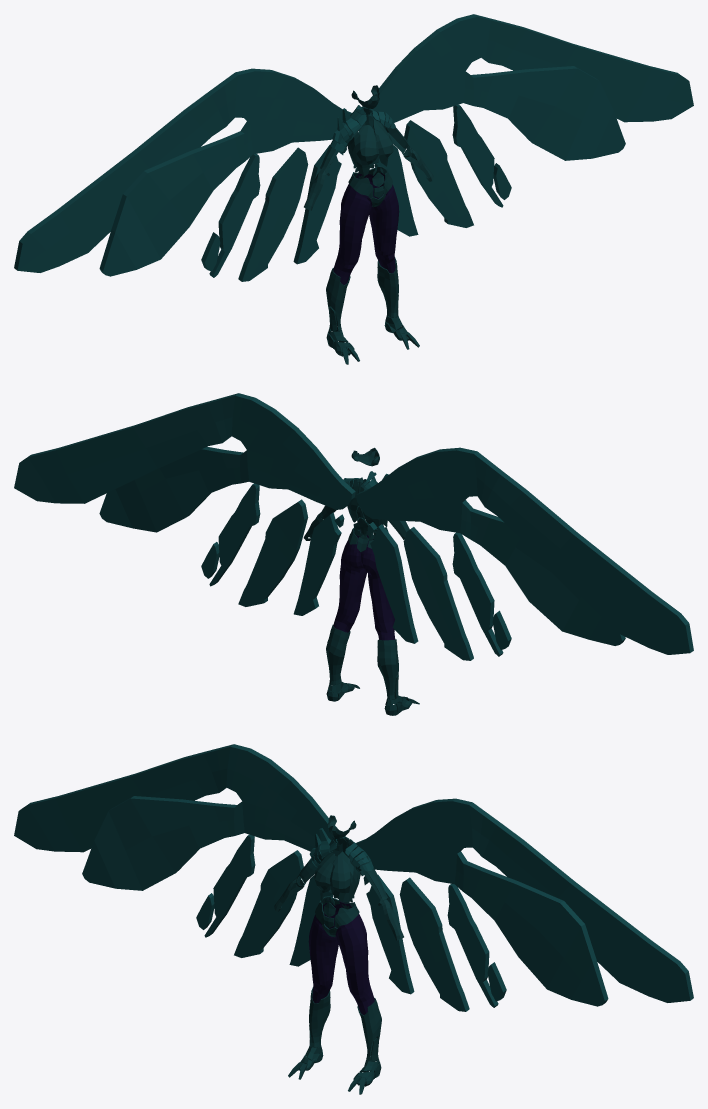
Rendered from ehecatl_readyUp_LAYOUT02-anim.fbx.
The picture shows the model from 3 angles, top to bottom: view 1: azimuth 30°, elevation 25°; view 2: azimuth 150°, elevation 25°; view 3: azimuth 330°, elevation 25°; orthographic projection.
Visible parts, largest first — view 1: Wings, Pants, Boots-Upper, Breastplate, ArmPlates, ShoulderGuards, hipGuards; view 2: Wings, Pants, Boots-Upper, BackPlate, Boots-Feet-Heels, ArmPlates; view 3: Wings, Pants, Boots-Upper, Breastplate, ArmPlates, ShoulderGuards, hipGuards.
Boxes of the visible parts, <box> form: Wings: <box>14,14,693,281</box>; Pants: <box>333,170,399,284</box>; Boots-Upper: <box>326,257,398,330</box>; Breastplate: <box>347,119,393,176</box>; ArmPlates: <box>304,116,433,210</box>; ShoulderGuards: <box>330,105,395,153</box>; hipGuards: <box>348,166,392,207</box>; Wings: <box>14,393,693,660</box>; Pants: <box>333,530,395,640</box>; Boots-Upper: <box>326,625,398,699</box>; BackPlate: <box>347,477,383,538</box>; Boots-Feet-Heels: <box>326,682,402,715</box>; ArmPlates: <box>303,505,409,542</box>; Wings: <box>14,744,693,1011</box>; Pants: <box>308,900,374,1014</box>; Boots-Upper: <box>309,987,381,1060</box>; Breastplate: <box>314,851,360,902</box>; ArmPlates: <box>274,856,403,940</box>; ShoulderGuards: <box>307,828,373,871</box>; hipGuards: <box>315,896,359,937</box>.
Bounding box in the file's own units: 484 × 200 × 39.38.
